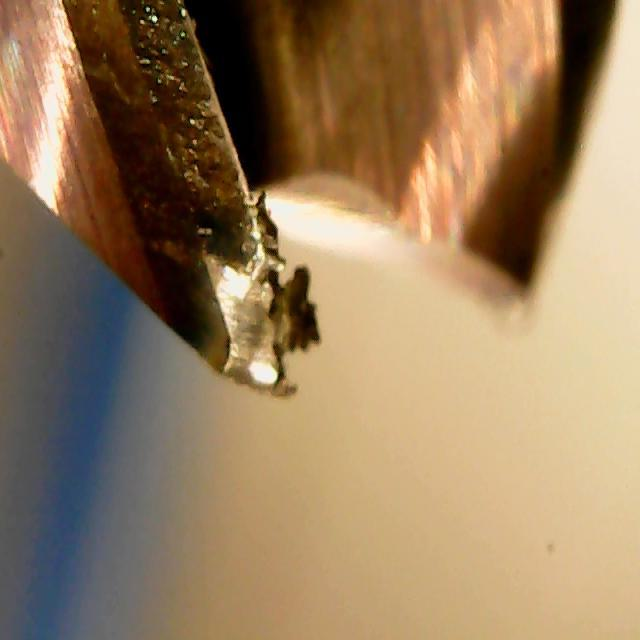Tool-wear-class-2: (151, 35, 315, 415)
